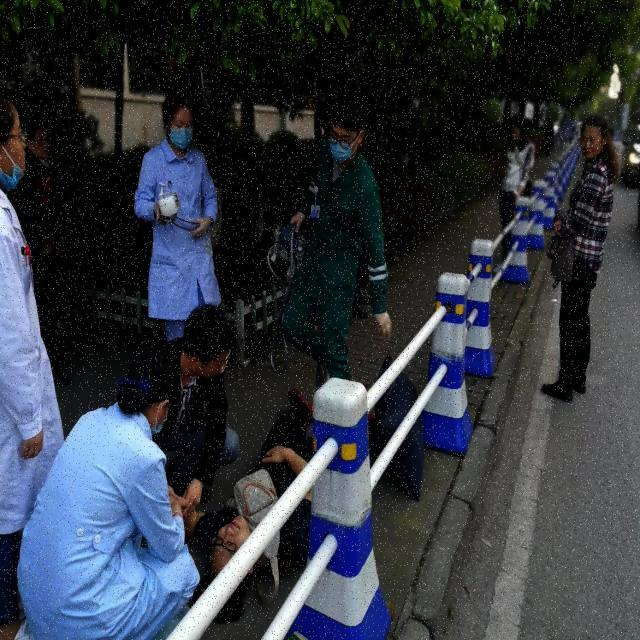fall: (213, 388, 350, 612)
